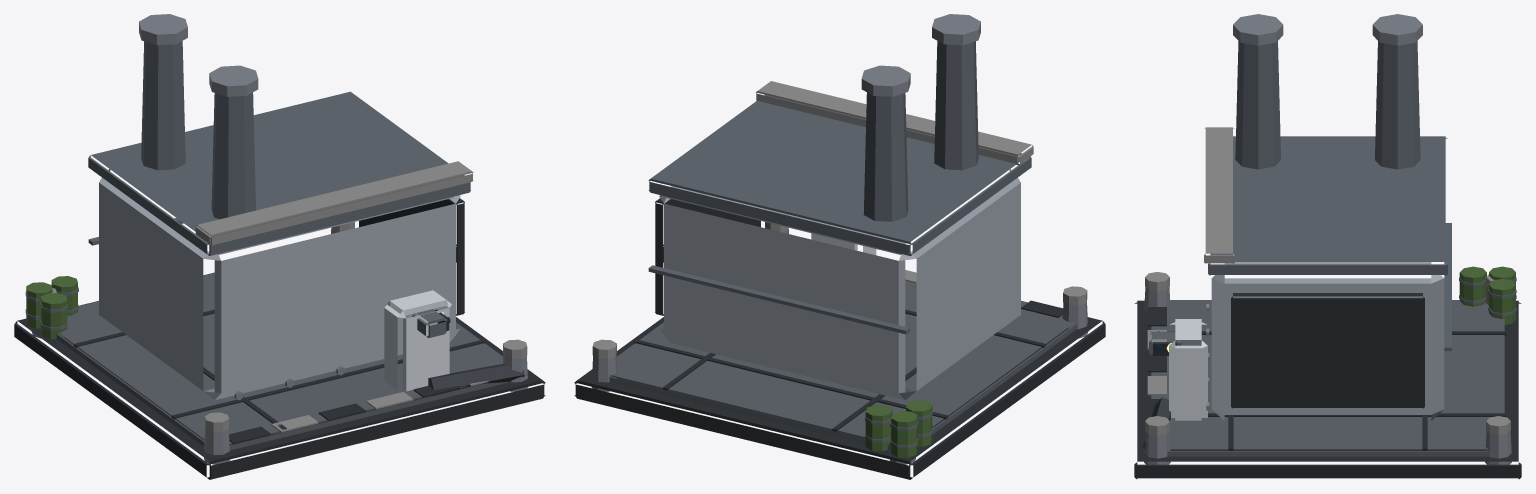
The model's file is con_diesel.glb.
3 renders of one model, left to right at view 1: azimuth 30°, elevation 25°; view 2: azimuth 150°, elevation 25°; view 3: azimuth 270°, elevation 25°, orthographic.
Parts seen in each view (by area): view 1: body; view 2: body; view 3: body.
Boxes of the visible parts, x1=… form: body: x1=14, y1=14, x2=545, y2=479; body: x1=574, y1=14, x2=1105, y2=479; body: x1=1134, y1=14, x2=1521, y2=479.
Size of the model in its own units: 48 by 45.84 by 48.
